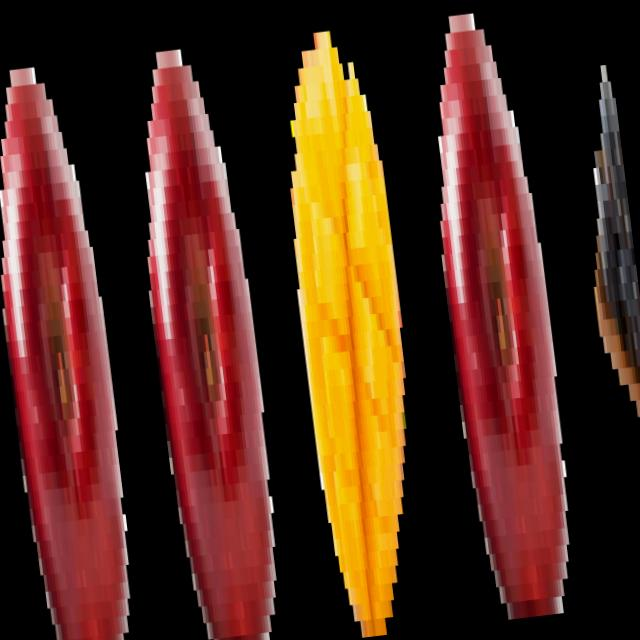apple: (110, 9, 301, 640), (402, 0, 591, 623), (0, 45, 146, 640)
mango: (264, 9, 442, 640)
